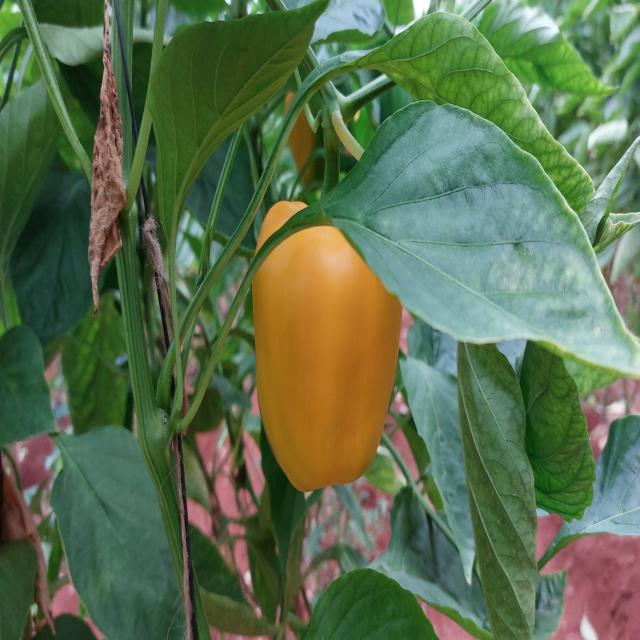Yellow-Ready-to-Harvest: (251, 198, 404, 493)
